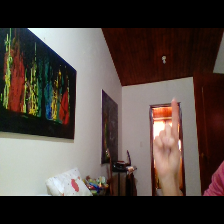2T: (148, 97, 189, 185)
